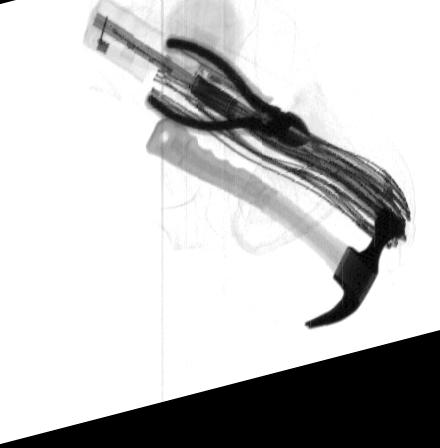Hammer: (143, 126, 405, 345)
Pliers: (144, 43, 310, 164)
